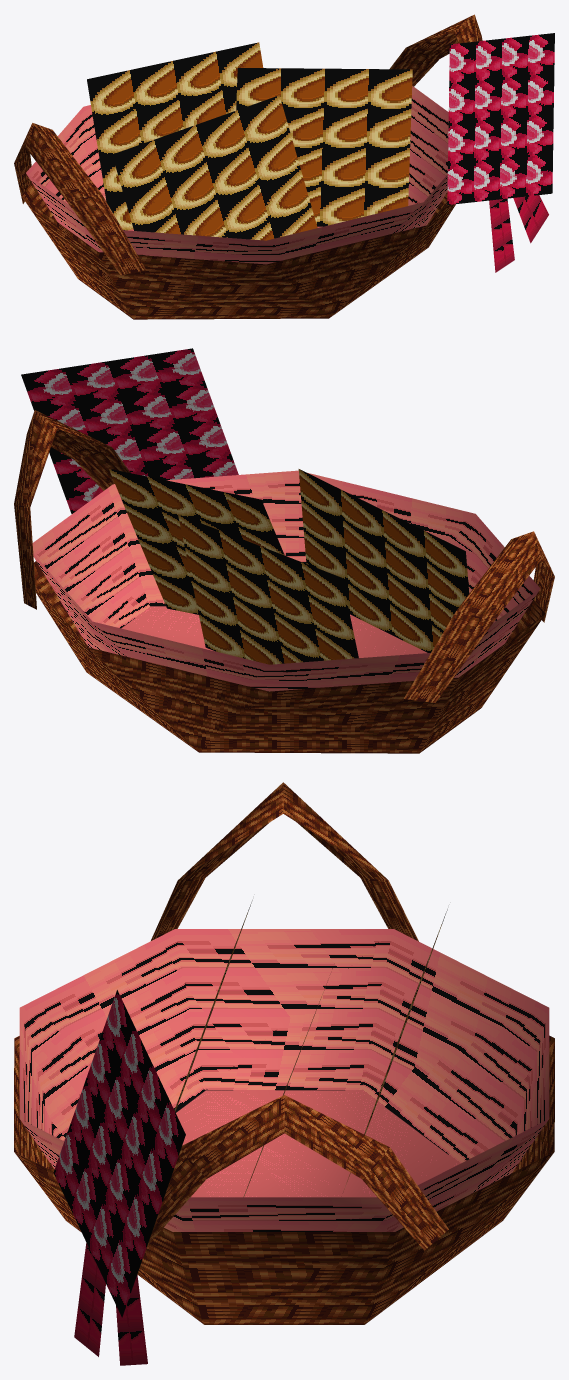
File: 5644ucc_m_cook1.gltf
The picture shows the model from 3 angles, top to bottom: view 1: azimuth 30°, elevation 25°; view 2: azimuth 150°, elevation 25°; view 3: azimuth 270°, elevation 25°; orthographic projection. The views are drawn at different scales.
Visible parts, largest first — view 1: 5644ucc_m_cook1; view 2: 5644ucc_m_cook1; view 3: 5644ucc_m_cook1.
Part boxes in pixels (<box>): 5644ucc_m_cook1: <box>14,14,554,319</box>; 5644ucc_m_cook1: <box>14,348,554,753</box>; 5644ucc_m_cook1: <box>14,782,554,1365</box>.
Size of the model in its own units: 0.8977 by 0.4004 by 0.5859.
7 materials, 7 textured.
